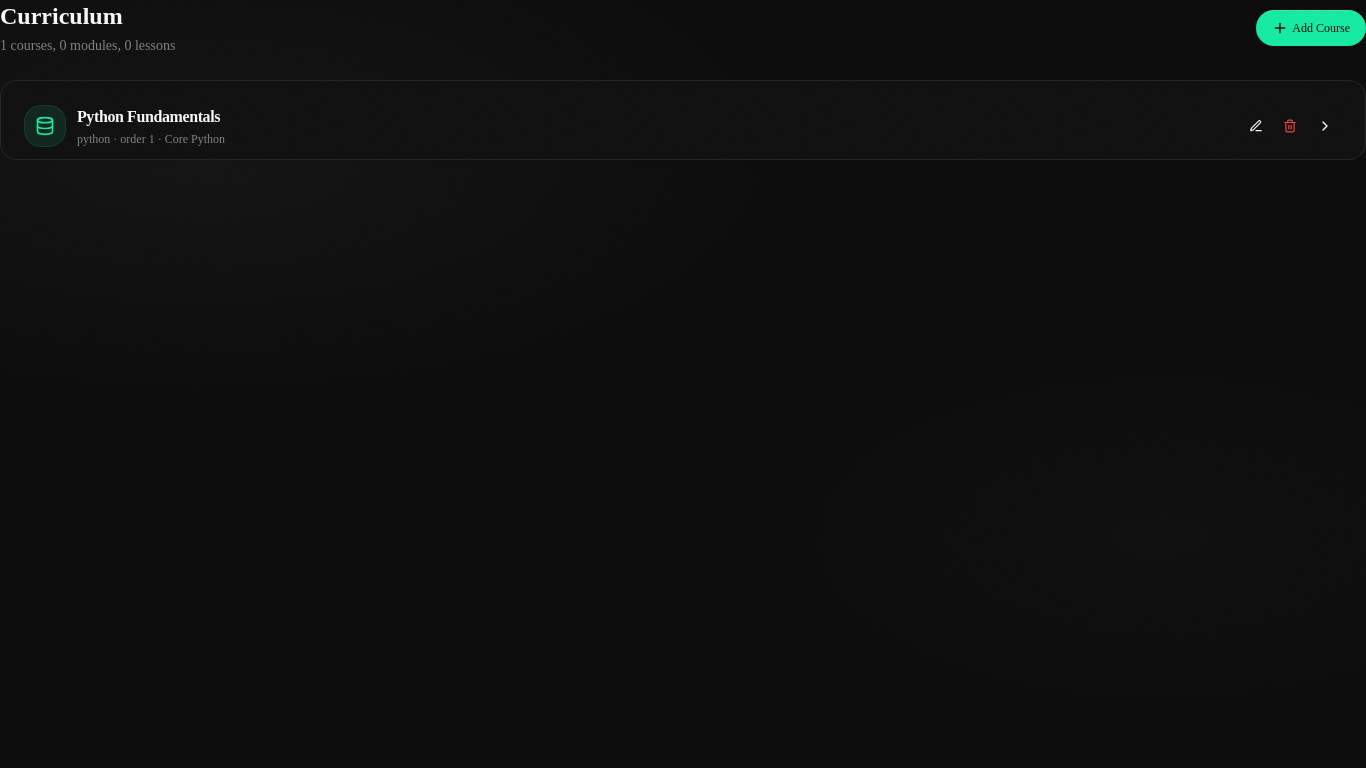
Test: Admin curriculum page › opens the side drawer with the course form (field names preserved)
Click the button "Add Course".
click(1311, 28)  # box 1256,10 -> 1365,46
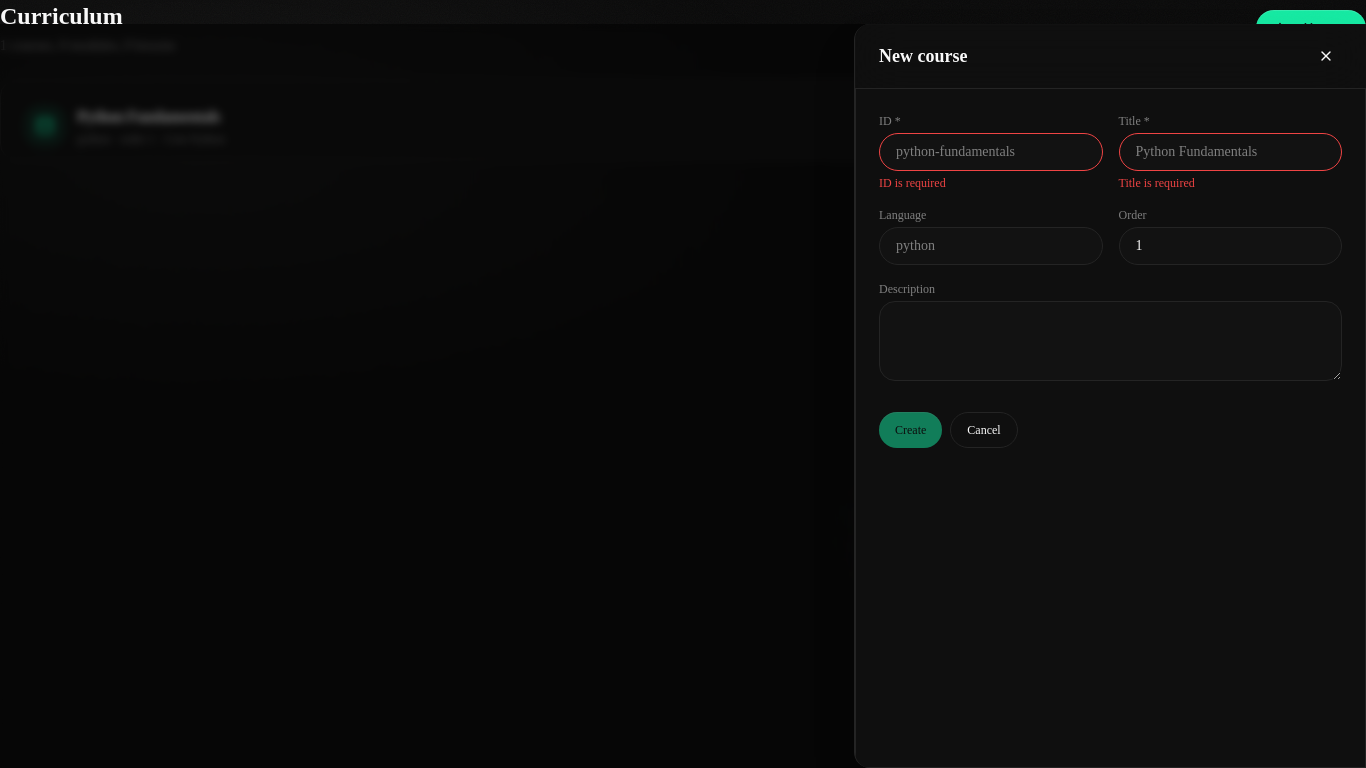
Now the heading "New course" is shown, box 879,42 -> 968,70
Now the text "ID *" is shown, box 879,114 -> 901,128
Now the field with placeholder "Python Fundamentals" is shown, box 1118,133 -> 1342,171
